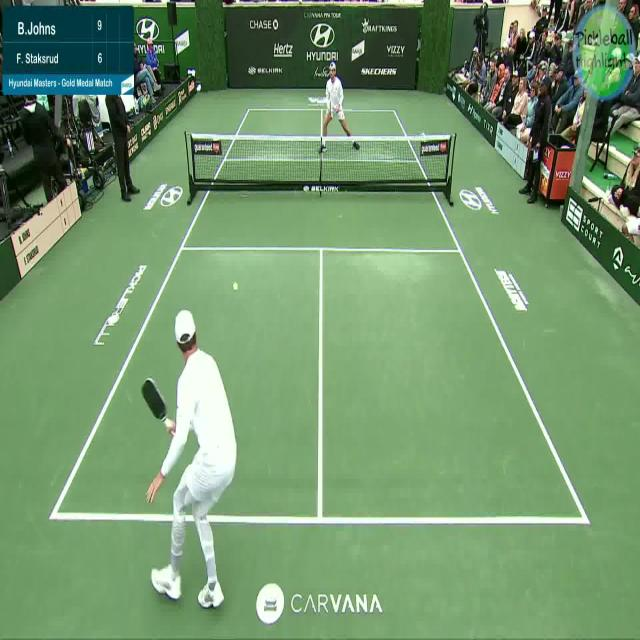Court: (53, 110, 587, 519)
ball: (230, 279, 243, 298)
